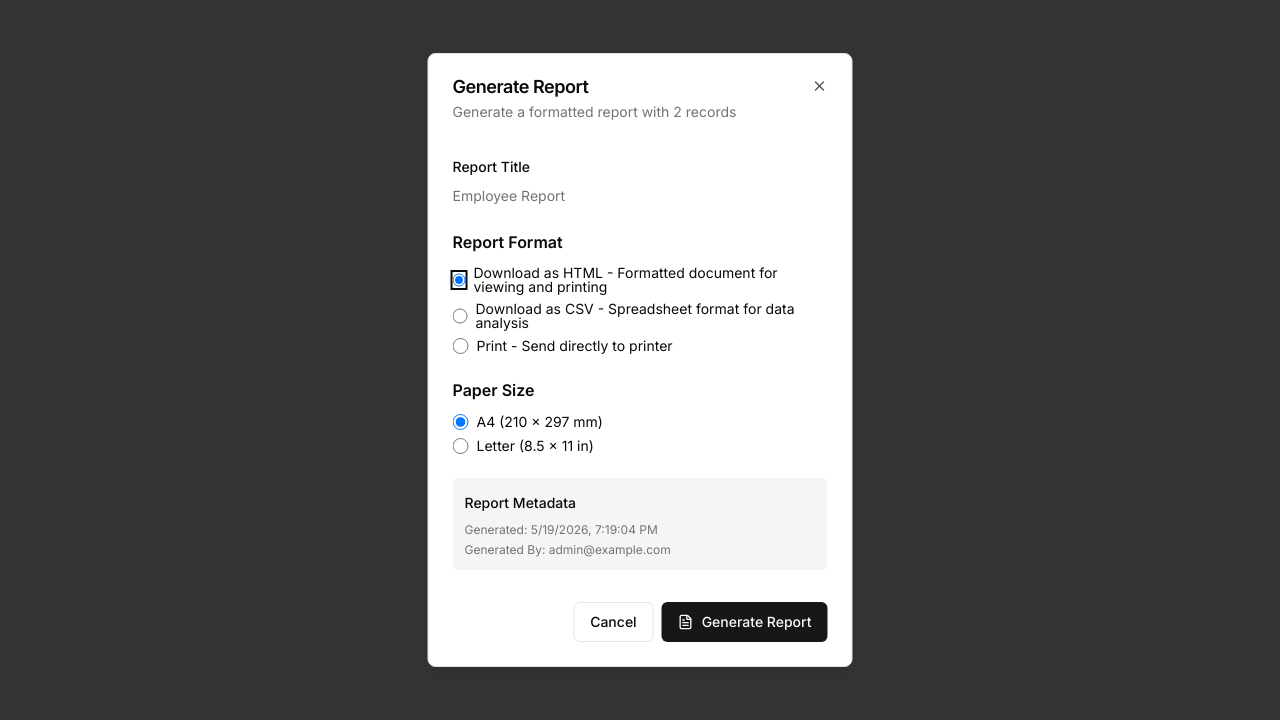
Test case: ReportGenerator Component › Button States › should show loading state during generation
Click the button "Generate Report" at [745, 622], box [662,602,828,642]
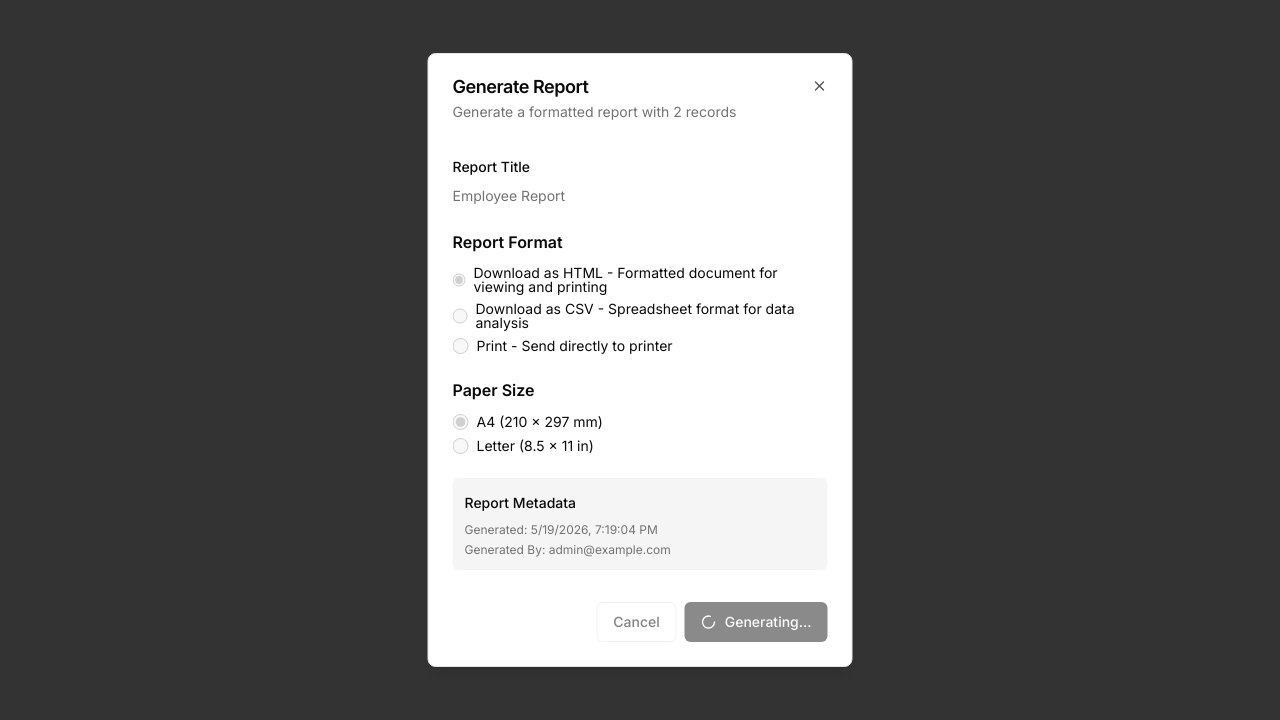
Now the button "Generating..." is shown, box [685,602,828,642]
